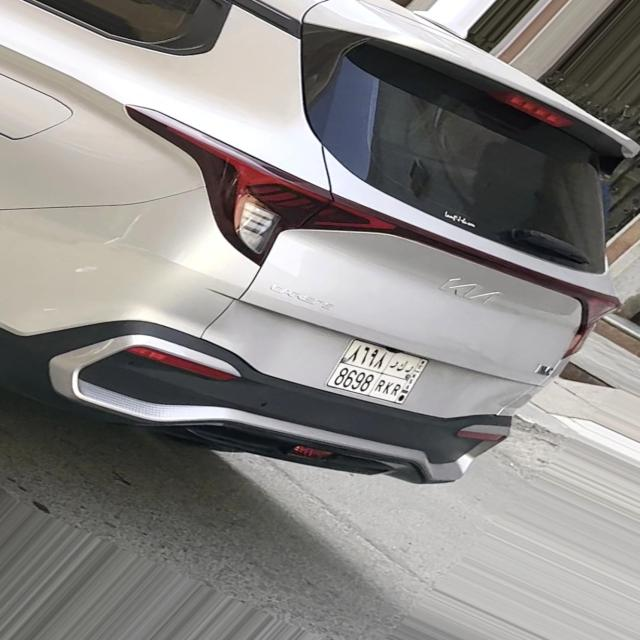Car-plate: (317, 326, 447, 412)
